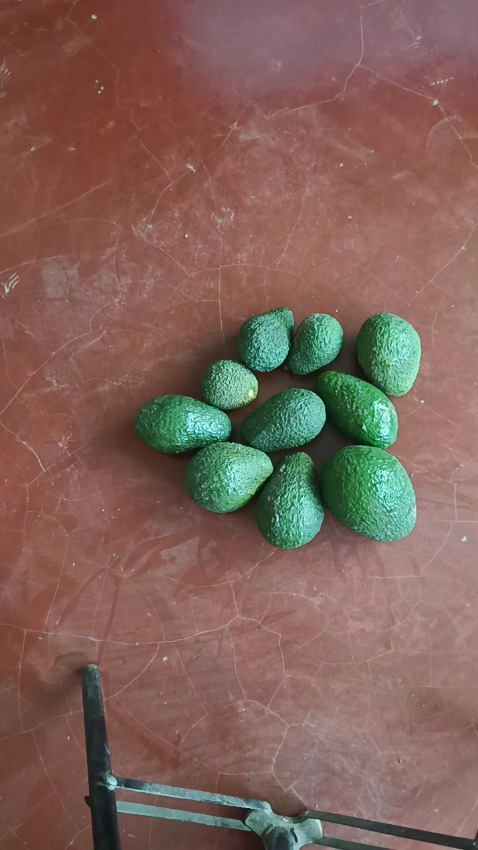Primera: (319, 444, 417, 540), (254, 453, 324, 547)
Segunda: (314, 371, 399, 448), (184, 441, 274, 513), (134, 395, 231, 454), (355, 312, 422, 396), (240, 388, 326, 453)
Tercera: (236, 308, 295, 373), (285, 313, 344, 377), (201, 359, 259, 411)
